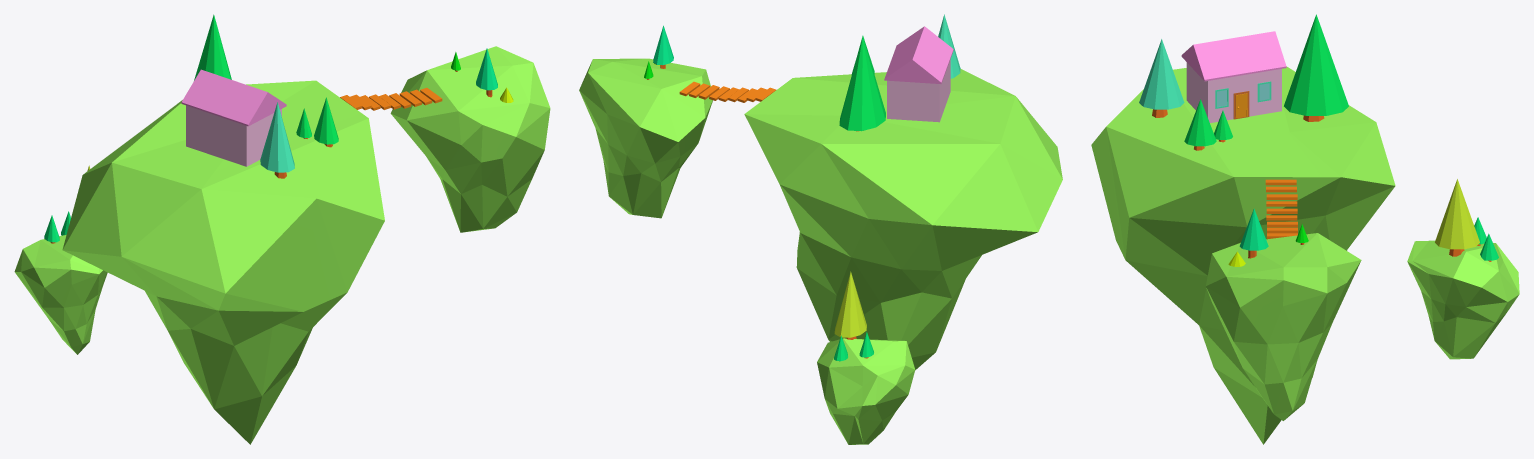
Rendered from son_absurt.fbx.
3 views of the same model, side by side, from view 1: azimuth 30°, elevation 25°; view 2: azimuth 150°, elevation 25°; view 3: azimuth 270°, elevation 25° (orthographic). The views are drawn at different scales.
Visible parts, largest first — view 1: Icosphere, Cube.004, Cube.005, Cone.012, Cube.033, Cone.011, Cone.013, Cone.005; view 2: Icosphere, Cube.005, Cone.011, Cube.004, Cone.010, Cube.033, Cone.012, Cone.005; view 3: Icosphere, Cone.011, Cube.005, Cube.004, Cone.010, Cone.012, Cube.033, Cone.013, Cone.005.
Part boxes in pixels (x1,y1,x2,y2): Icosphere: (14,46,550,444); Cube.004: (186,105,281,166); Cube.005: (181,69,286,126); Cone.012: (260,102,294,172); Cube.033: (340,87,442,110); Cone.011: (194,14,231,80); Cone.013: (314,97,338,144); Cone.005: (476,48,497,90); Icosphere: (579,58,1062,444); Cube.005: (884,26,953,83); Cone.011: (839,35,885,131); Cube.004: (887,59,950,122); Cone.010: (834,271,866,337); Cube.033: (679,81,776,102); Cone.012: (938,14,960,78); Cone.005: (653,25,673,65); Icosphere: (1091,66,1519,444); Cone.011: (1284,14,1348,115); Cube.005: (1181,31,1286,81); Cube.004: (1186,62,1281,122); Cone.010: (1435,179,1479,249); Cone.012: (1139,39,1184,109); Cube.033: (1265,179,1297,238); Cone.013: (1184,99,1216,146); Cone.005: (1239,208,1268,250).
Bounding box in the file's own units: 19021 × 15934 × 14534.
